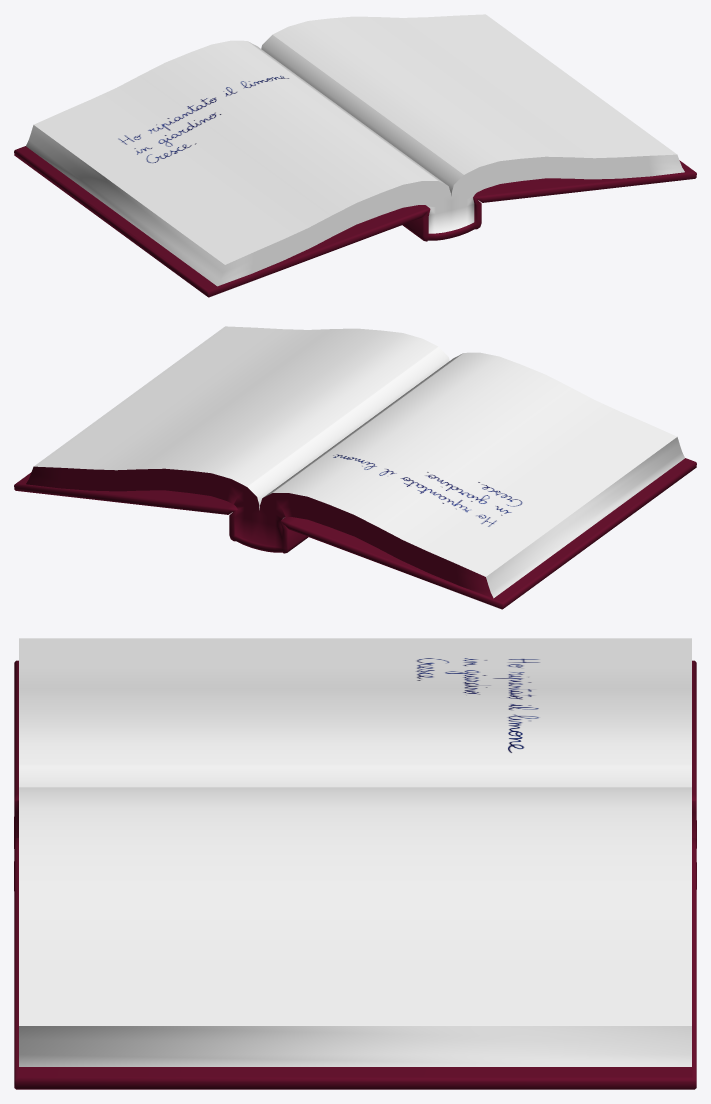
File: diario_future.glb
3 renders of one model, top to bottom at view 1: azimuth 30°, elevation 25°; view 2: azimuth 150°, elevation 25°; view 3: azimuth 270°, elevation 25°, orthographic. The views are drawn at different scales.
Parts seen in each view (by area): view 1: diario-future; view 2: diario-future; view 3: diario-future.
Part boxes in pixels (box(x1,y1,x2,y2)): diario-future: box(14, 14, 696, 297); diario-future: box(14, 326, 696, 609); diario-future: box(14, 638, 696, 1089).
Size of the model in its own units: 1.25 by 0.1611 by 0.8617.
2 materials, 1 textured.
